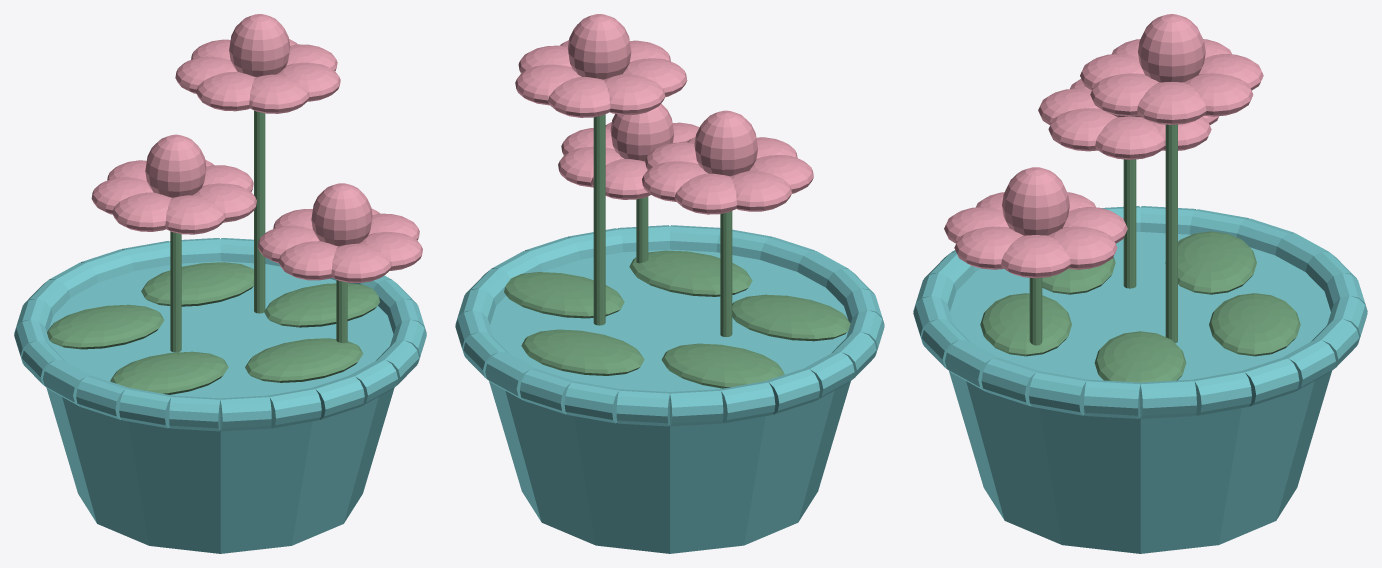
Rendered from potted-water-lotus.glb.
The picture shows the model from 3 angles, left to right: view 1: azimuth 30°, elevation 25°; view 2: azimuth 150°, elevation 25°; view 3: azimuth 270°, elevation 25°; orthographic projection. The views are drawn at different scales.
Parts seen in each view (by area): view 1: potted-water-lotus; view 2: potted-water-lotus; view 3: potted-water-lotus.
Part boxes in pixels (x1,y1,x2,y2): potted-water-lotus: (14,14,426,553); potted-water-lotus: (455,14,884,553); potted-water-lotus: (913,14,1367,553).
Bounding box in the file's own units: 0.8694 × 1.05 × 0.8694.
